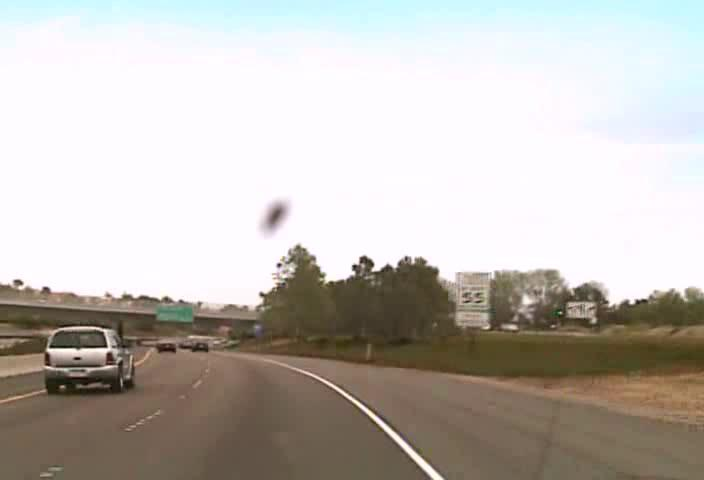truckSpeedLimit55: (454, 270, 489, 328)
